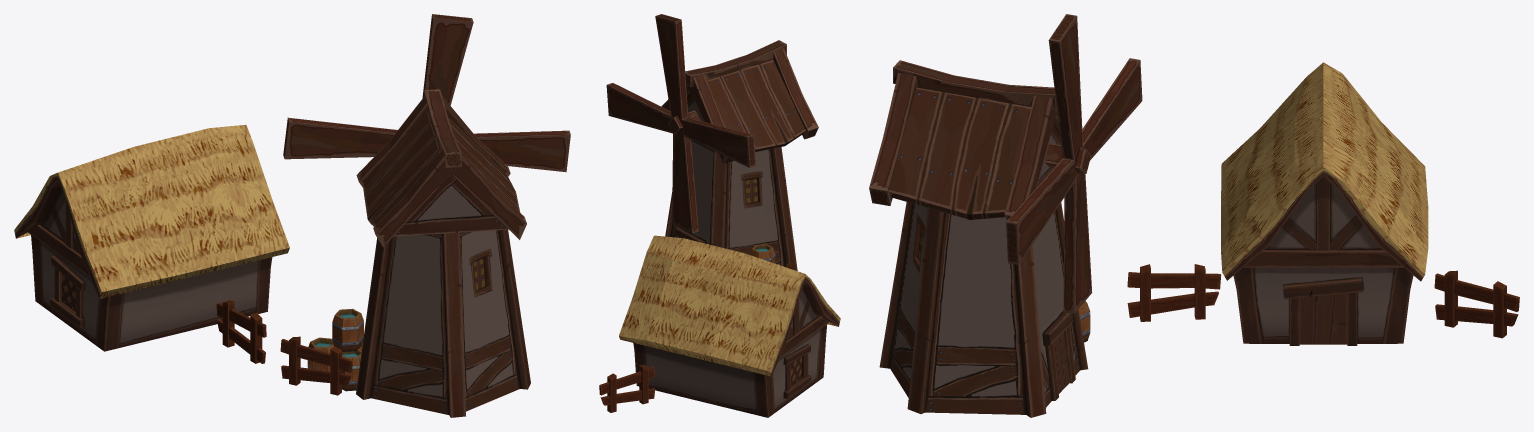
Rendered from house_thatch_roof.glb.
The picture shows the model from 3 angles, left to right: view 1: azimuth 30°, elevation 25°; view 2: azimuth 150°, elevation 25°; view 3: azimuth 270°, elevation 25°; orthographic projection. The views are drawn at different scales.
Parts seen in each view (by area): view 1: Cylinder.004, Cube.000, Cube.004, Cube.006, Cube.001, Cube.014, Cylinder.008; view 2: Cube.000, Cylinder.004, Cube.006, Cube.004, Cube.002, Cylinder.008; view 3: Cylinder.004, Cube.000, Cube.006, Cube.004, Cube.014, Cube.002, Cube.005, Cube.003.
Boxes of the visible parts, box(x1,y1,x2,y2) form: Cylinder.004: box(356, 89, 530, 417); Cube.000: box(14, 125, 289, 299); Cube.004: box(31, 235, 272, 351); Cube.006: box(283, 14, 570, 172); Cube.001: box(280, 336, 352, 395); Cube.014: box(216, 300, 266, 363); Cylinder.008: box(332, 308, 363, 351); Cube.000: box(619, 235, 840, 376); Cylinder.004: box(661, 40, 818, 270); Cube.006: box(606, 14, 755, 233); Cube.004: box(633, 324, 827, 417); Cube.002: box(599, 365, 655, 412); Cylinder.008: box(750, 244, 775, 263); Cylinder.004: box(869, 60, 1088, 417); Cube.000: box(1221, 62, 1428, 281); Cube.006: box(1006, 14, 1142, 313); Cube.004: box(1233, 267, 1413, 345); Cube.014: box(1127, 264, 1221, 321); Cube.002: box(1434, 270, 1519, 338); Cube.005: box(1299, 293, 1347, 344); Cube.003: box(1053, 332, 1069, 393).
Bounding box in the file's own units: 775 × 650 × 992.
Materials: 9 (9 with a texture image).
